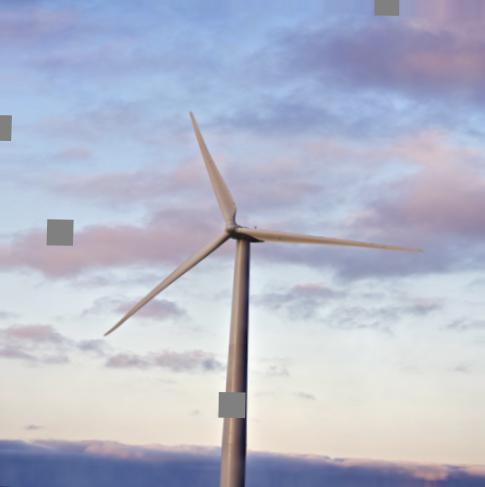wind turbine: (101, 111, 423, 482)
